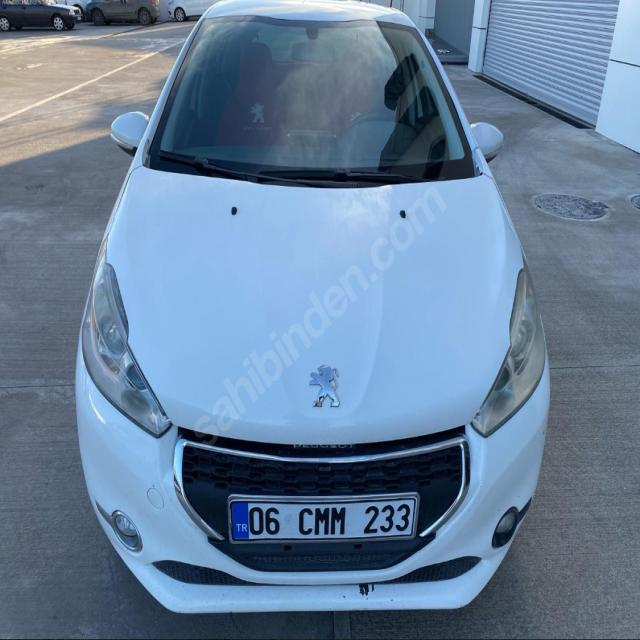pegout: (305, 360, 345, 410)
